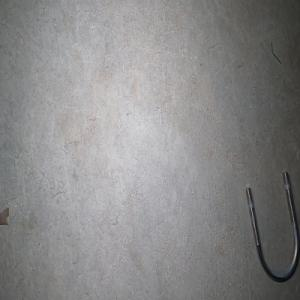ClampPart: (244, 170, 300, 283)
